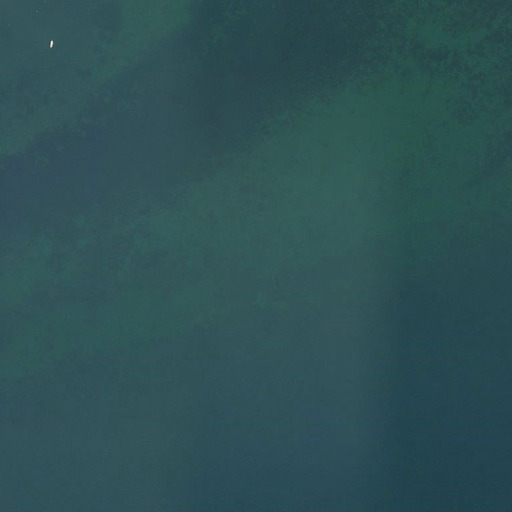ship: (48, 40, 54, 49)
